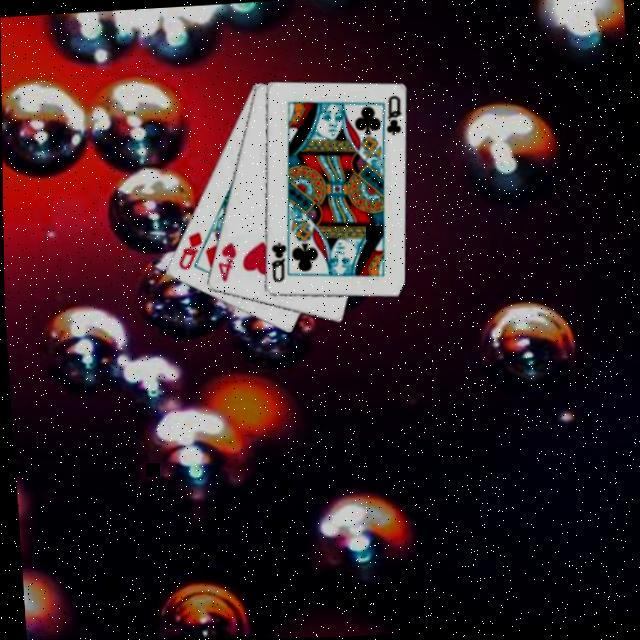4H: (213, 238, 240, 283)
QC: (266, 238, 291, 283), (381, 92, 406, 137)
QD: (172, 226, 206, 272)
